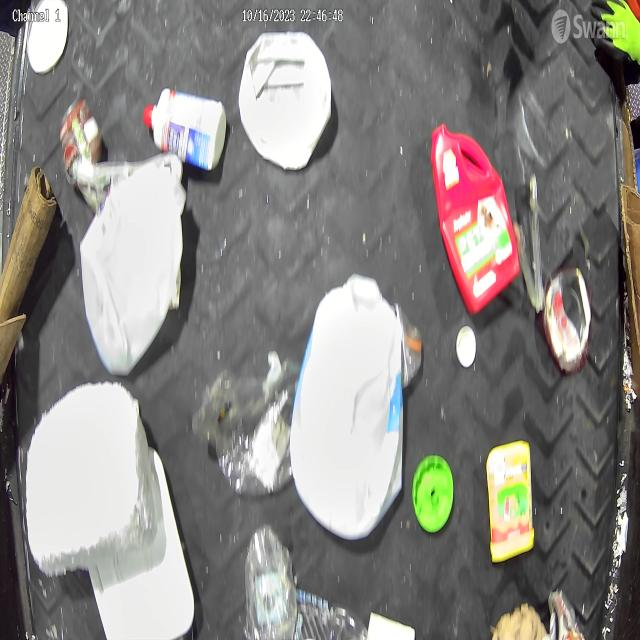can: (544, 264, 592, 375), (59, 92, 104, 186)
milk_jug: (291, 273, 404, 537), (82, 158, 186, 376)
non_white_jug: (430, 120, 523, 320), (144, 90, 226, 174)
plastic_bottle: (272, 591, 374, 640)
